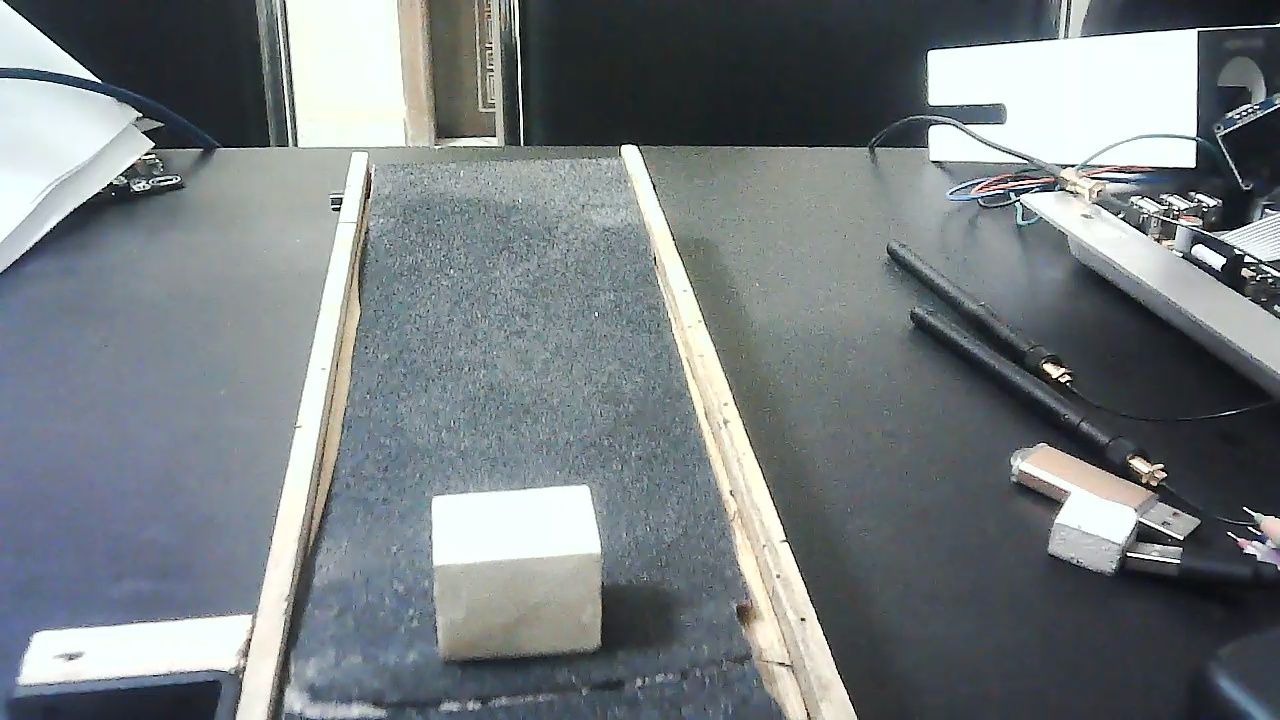Medium: (430, 483, 604, 657)
